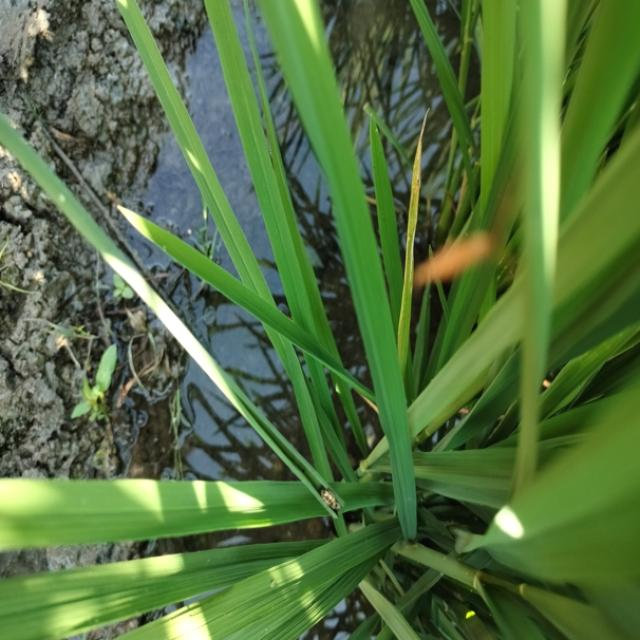Hawar Daun Bakteri: (394, 102, 436, 320)
